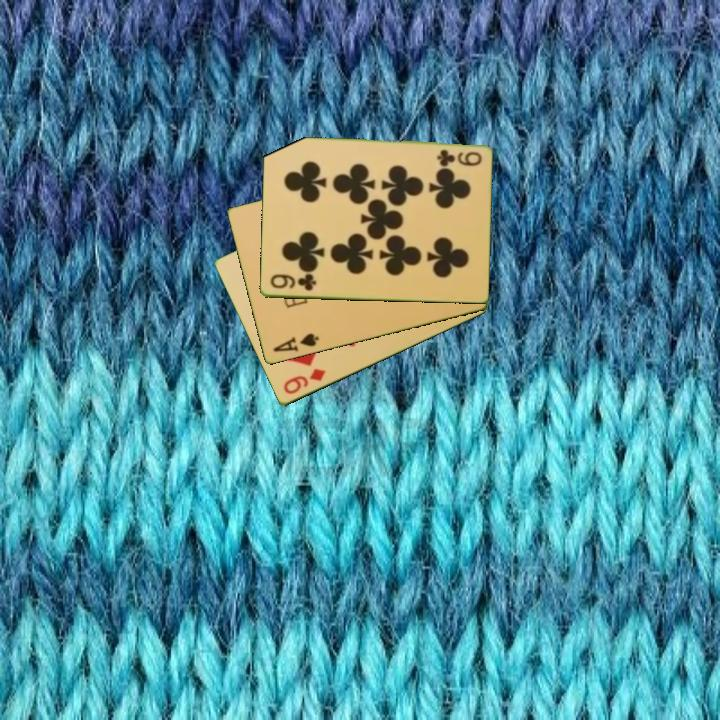9c: (267, 271, 319, 294), (433, 146, 484, 168)
9d: (280, 365, 328, 398)
As: (269, 330, 322, 355)
